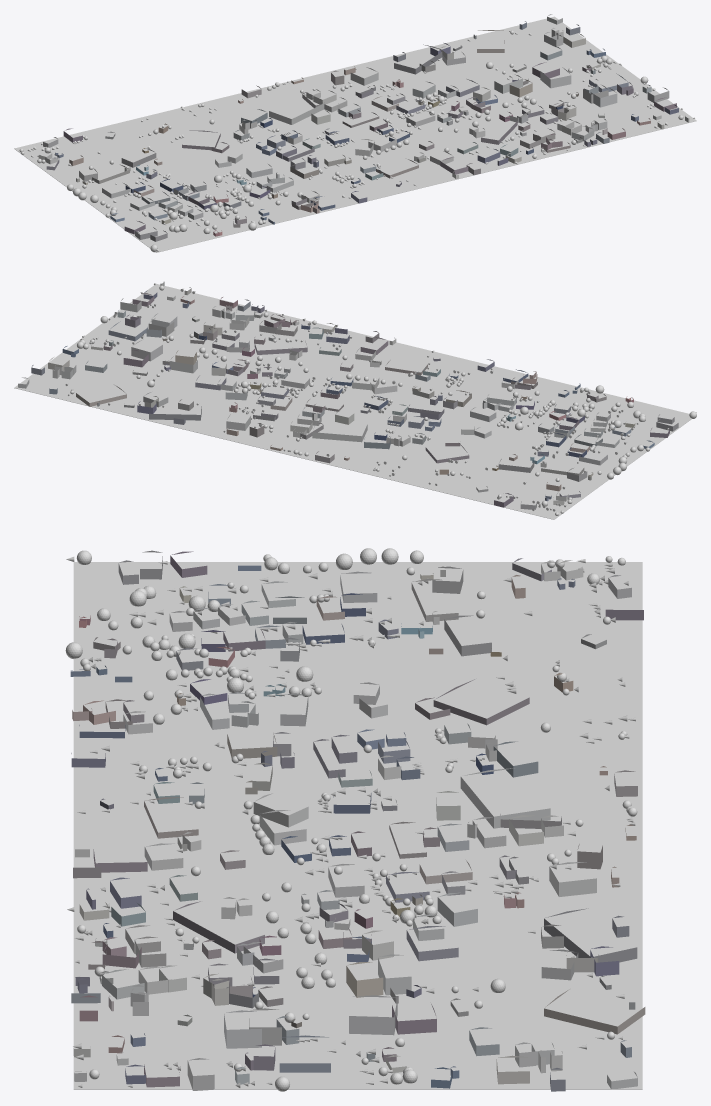
3 views of the same model, one above another, from view 1: azimuth 30°, elevation 25°; view 2: azimuth 150°, elevation 25°; view 3: azimuth 270°, elevation 25° (orthographic). The views are drawn at different scales.
Visible parts, largest first — view 1: Ground_Base, BLD-001; view 2: Ground_Base, BLD-001; view 3: Ground_Base, BLD-001, BLD-013, BLD-006, BLD-058, BLD-010.
Part boxes in pixels (<box>): Ground_Base: <box>14,16,696,252</box>; BLD-001: <box>269,95,324,124</box>; Ground_Base: <box>14,283,691,519</box>; BLD-001: <box>312,422,367,442</box>; Ground_Base: <box>73,562,642,1089</box>; BLD-001: <box>460,768,550,828</box>; BLD-013: <box>349,995,397,1035</box>; BLD-006: <box>544,908,637,962</box>; BLD-058: <box>544,989,645,1034</box>; BLD-010: <box>173,901,264,953</box>.
Bounding box in the file's own units: 884 × 19 × 405.
